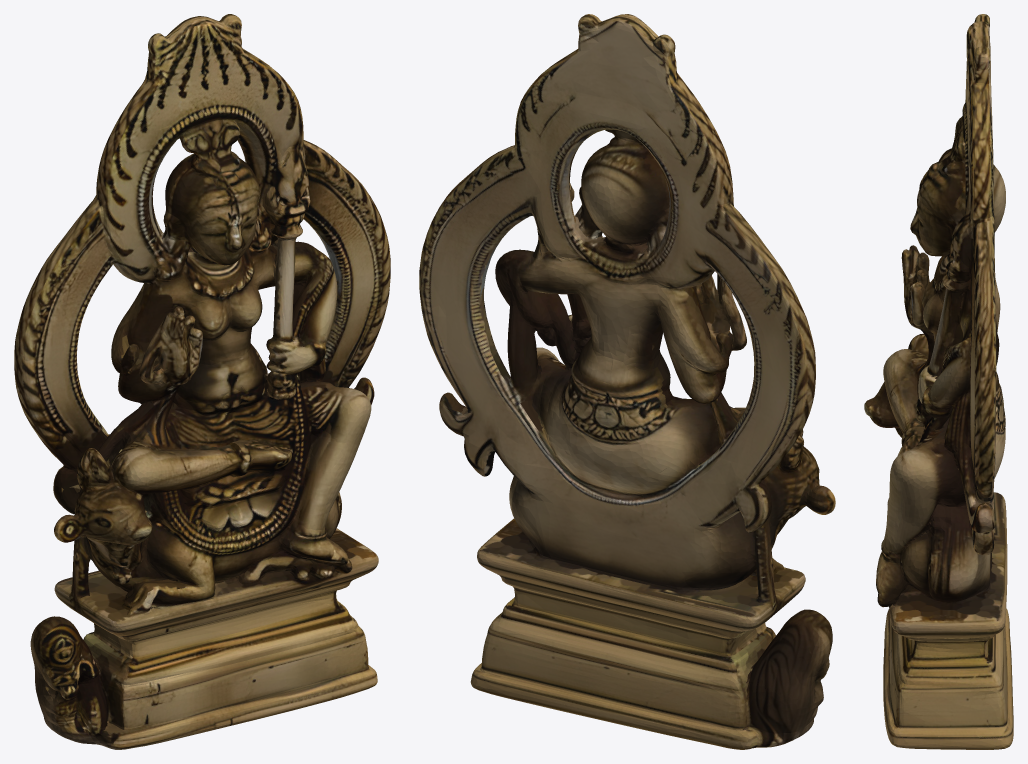
3 views of the same model, side by side, from view 1: azimuth 30°, elevation 25°; view 2: azimuth 150°, elevation 25°; view 3: azimuth 270°, elevation 25° (orthographic). The views are drawn at different scales.
Parts seen in each view (by area): view 1: textured_mesh; view 2: textured_mesh; view 3: textured_mesh.
Part boxes in pixels (x1,y1,x2,y2): textured_mesh: (14,14,390,749); textured_mesh: (419,14,835,749); textured_mesh: (864,14,1013,749).
Size of the model in its own units: 1.17 by 1.99 by 0.4083.
Materials: 1 (1 with a texture image).
